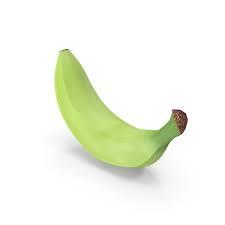Banana Unripe: (25, 24, 214, 179)
